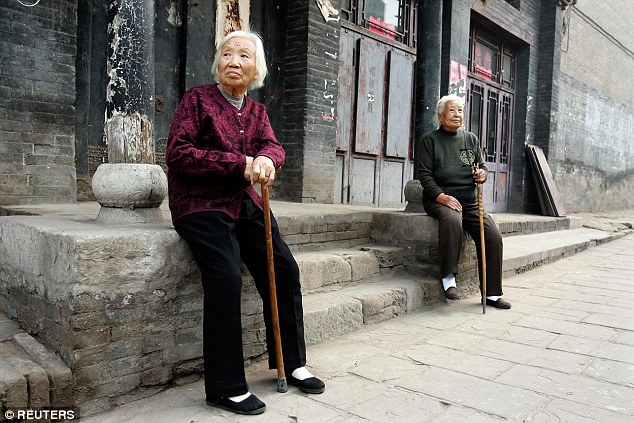Person: (157, 20, 337, 422), (410, 83, 530, 322)
